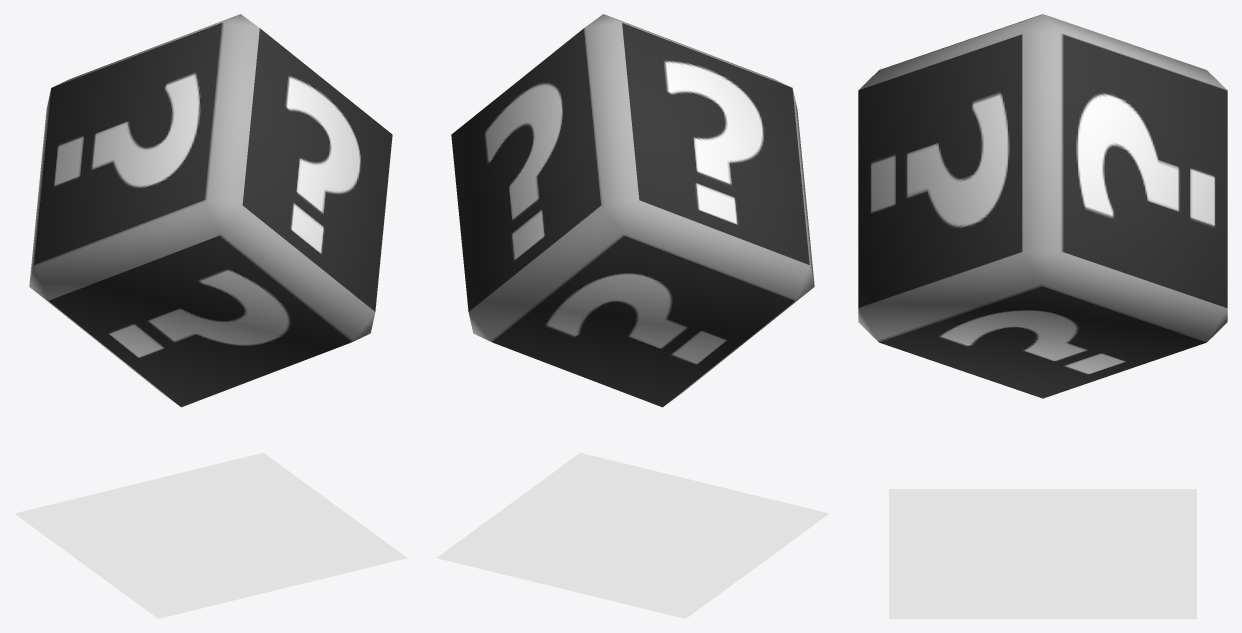
Rendered from item_box.FBX.
The picture shows the model from 3 angles, left to right: view 1: azimuth 30°, elevation 25°; view 2: azimuth 150°, elevation 25°; view 3: azimuth 270°, elevation 25°; orthographic projection. The views are drawn at different scales.
Parts seen in each view (by area): view 1: obj_boxItem; view 2: obj_boxItem; view 3: obj_boxItem.
Boxes of the visible parts, x1,y1,x2,y2 form: obj_boxItem: (14, 14, 407, 618); obj_boxItem: (436, 14, 829, 618); obj_boxItem: (858, 14, 1227, 618).
Size of the model in its own units: 1.51 by 2.08 by 1.27.
